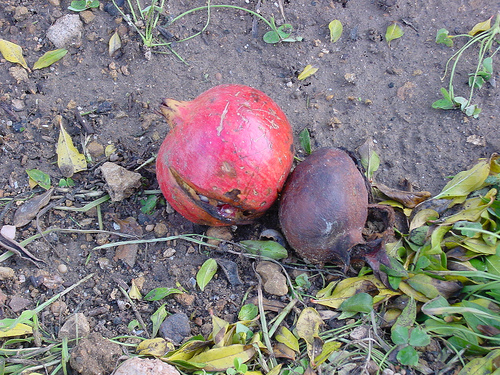pomogranate: (155, 85, 295, 228), (280, 148, 394, 276)
